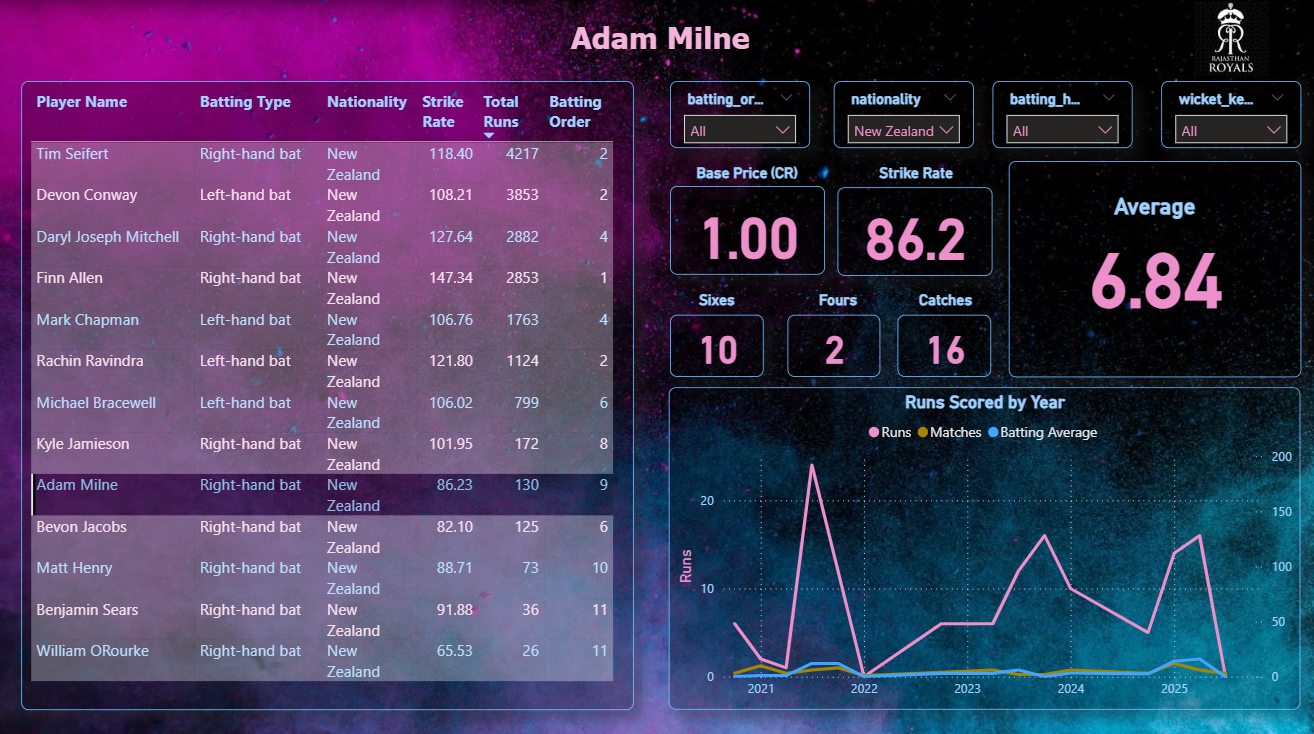

This screenshot's page, from the dashboard's own definition file:
{"tool":"powerbi","page":{"name":"Batsman","canvas":[1280,720],"ordinal":0},"visuals":[{"type":"tableEx","fields":{"Values":["Auction players.Player Name","players.batting_type","players.nationality","Avg(player_match_stats.strike_rate)","Sum(player_match_stats.runs_scored)","Median(player_match_stats.batting_order)"]},"box":[25.3,82,591.2,606.8],"z":0},{"type":"slicer","fields":{"Values":["player_match_stats.batting_order"]},"box":[651.5,82,135.1,65.1],"z":1000},{"type":"lineChart","title":"Runs Scored by Year","fields":{"Y":["Sum(player_match_stats.runs_scored)"],"Category":["player_match_stats.match_date.Variation.Date Hierarchy.Year","player_match_stats.match_date.Variation.Date Hierarchy.Quarter"],"Y2":["CountNonNull(player_match_stats.match_id)","player_match_stats.Batting Average"]},"box":[650.3,377.6,609.3,311.3],"z":2000},{"type":"slicer","fields":{"Values":["players.nationality"]},"box":[809.5,82,135.1,65.1],"z":3000},{"type":"slicer","fields":{"Values":["players.batting_hand"]},"box":[962.7,82,135.1,65.1],"z":4000},{"type":"card","fields":{"Values":["Sum(Auction players.Base Price)"]},"box":[651.5,183.4,149.6,85.7],"z":5000},{"type":"slicer","fields":{"Values":["players.is_wicket_keeper"]},"box":[1125.6,82,135.1,65.1],"z":6000},{"type":"card","fields":{"Values":["Sum(player_match_stats.no_of_sixes)"]},"box":[651.5,307.6,90.5,60.3],"z":7000},{"type":"card","fields":{"Values":["Sum(player_match_stats.no_of_fours)"]},"box":[764.9,307.6,89.3,60.3],"z":8000},{"type":"card","fields":{"Values":["Avg(player_match_stats.strike_rate)"]},"box":[813.1,184.6,149.6,85.7],"z":9000},{"type":"card","fields":{"Values":["player_match_stats.Batting Average"]},"box":[978.4,159.3,282.3,208.7],"z":10000},{"type":"card","fields":{"Values":["Sum(player_match_stats.number_of_catches_taken)"]},"box":[871.1,307.6,90.5,60.3],"z":11000},{"type":"textbox","box":[651.5,278.7,90.5,29],"z":12000},{"type":"textbox","box":[768.5,278.7,90.5,29],"z":13000},{"type":"textbox","box":[872.3,278.7,90.5,29],"z":14000},{"type":"textbox","box":[651.5,156.8,148.4,29],"z":15000},{"type":"textbox","box":[814.3,156.8,149.6,29],"z":16000},{"type":"textbox","box":[978.4,185.8,282.3,41],"z":17000},{"type":"image","box":[1125.6,0,133.9,82],"z":18000},{"type":"card","fields":{"Values":["Min(players.player_name)"]},"box":[25.3,9.7,1234.2,62.7],"z":19000}]}

Visuals, with their boxes in screenshot pixels (x1, y1, x2, y2), scaled from the page's 1280x720 canvas onto the 1314x734 screenshot:
tableEx - Auction players.Player Name x players.batting_type: locate(26, 84, 633, 702)
slicer - player_match_stats.batting_order: locate(669, 84, 807, 150)
"Runs Scored by Year" lineChart: locate(668, 385, 1293, 702)
slicer - players.nationality: locate(831, 84, 970, 150)
slicer - players.batting_hand: locate(988, 84, 1127, 150)
card - Sum(Auction players.Base Price): locate(669, 187, 822, 274)
slicer - players.is_wicket_keeper: locate(1155, 84, 1294, 150)
card - Sum(player_match_stats.no_of_sixes): locate(669, 314, 762, 375)
card - Sum(player_match_stats.no_of_fours): locate(785, 314, 877, 375)
card - Avg(player_match_stats.strike_rate): locate(835, 188, 988, 276)
card - player_match_stats.Batting Average: locate(1004, 162, 1294, 375)
card - Sum(player_match_stats.number_of_catches_taken): locate(894, 314, 987, 375)
textbox: locate(669, 284, 762, 314)
textbox: locate(789, 284, 882, 314)
textbox: locate(895, 284, 988, 314)
textbox: locate(669, 160, 821, 189)
textbox: locate(836, 160, 990, 189)
textbox: locate(1004, 189, 1294, 231)
image: locate(1155, 0, 1293, 84)
card - Min(players.player_name): locate(26, 10, 1293, 74)
